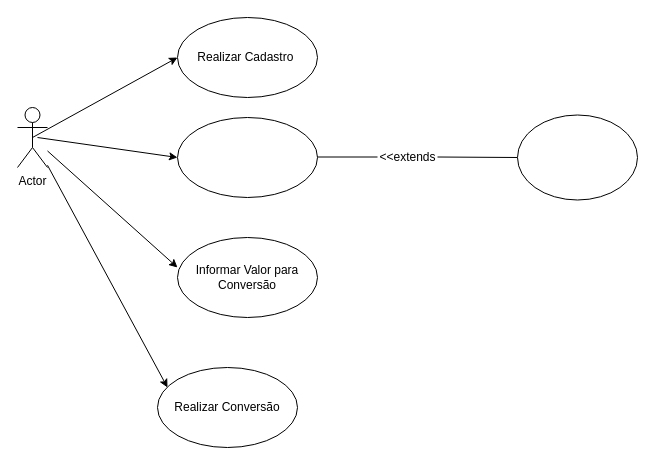
Some shapes in this 655 by 465 pixel diagram are drawn without their labels. The shapes that lost their labels are listed below. From the top down, each one's centre as x and y in pixels, then its label:
At point (247, 157): "Efetuar Login".
At point (577, 157): "Verificar se existe cadastro".
